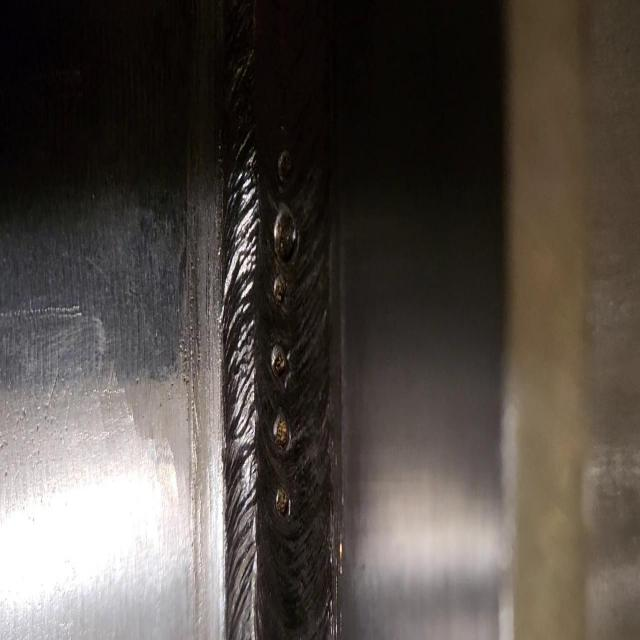Welding Line: (230, 7, 328, 640)
Workpiece: (0, 2, 515, 640)
porosity: (270, 148, 297, 515)
